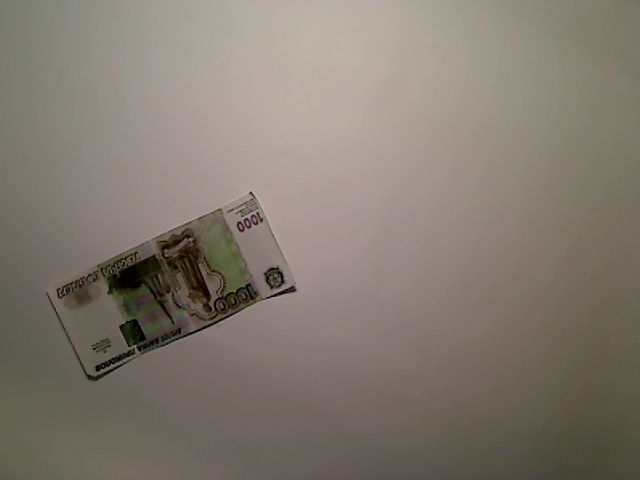banknotes: (41, 188, 301, 384)
